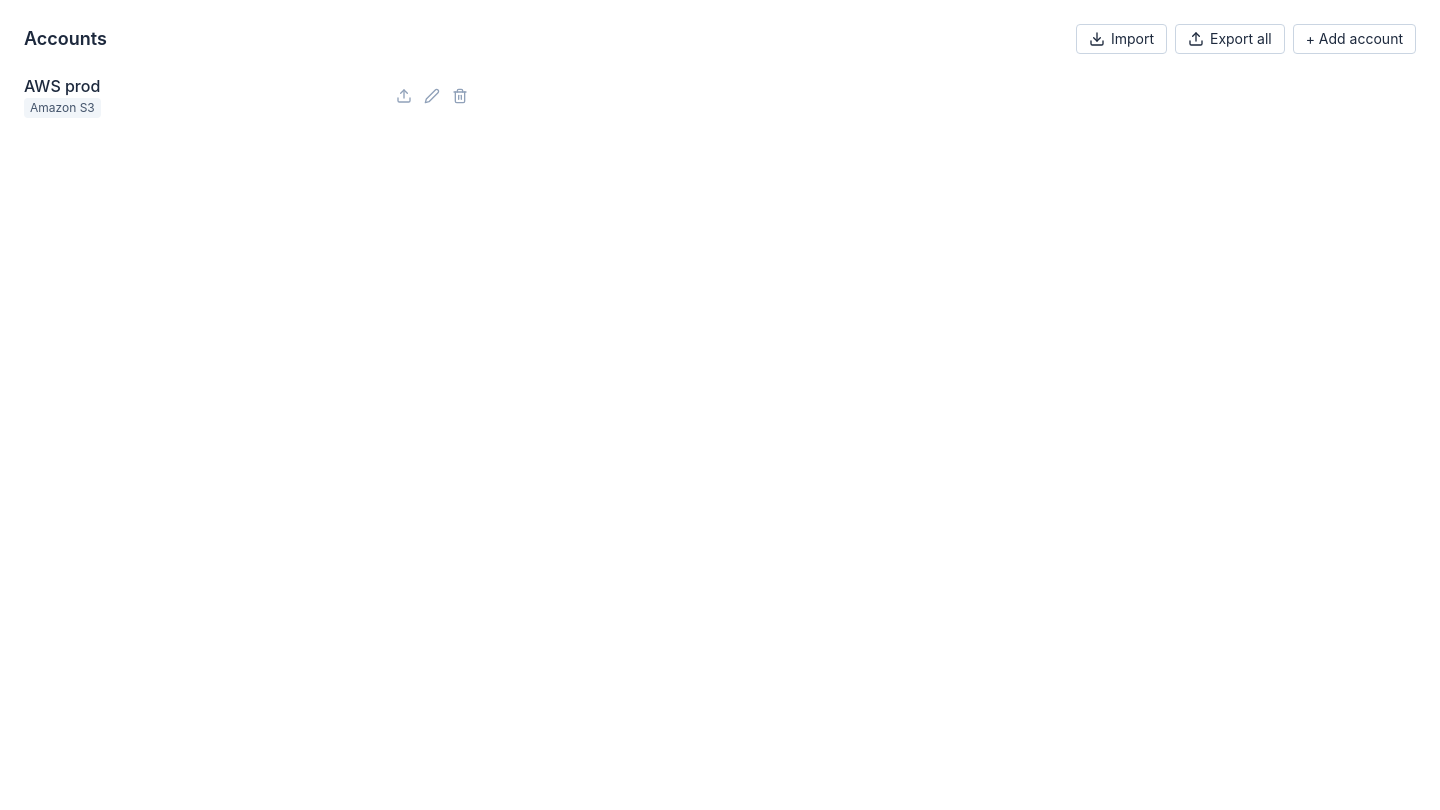
Test case: ConnectionsScreen › opens the export-all dialog from the header
This screenshot has width=1440, height=810.
What coordinates should you click on to do the following:
click the button "Export all"
I would click on:
 (1230, 39)
Its box is [1175,24,1285,54].
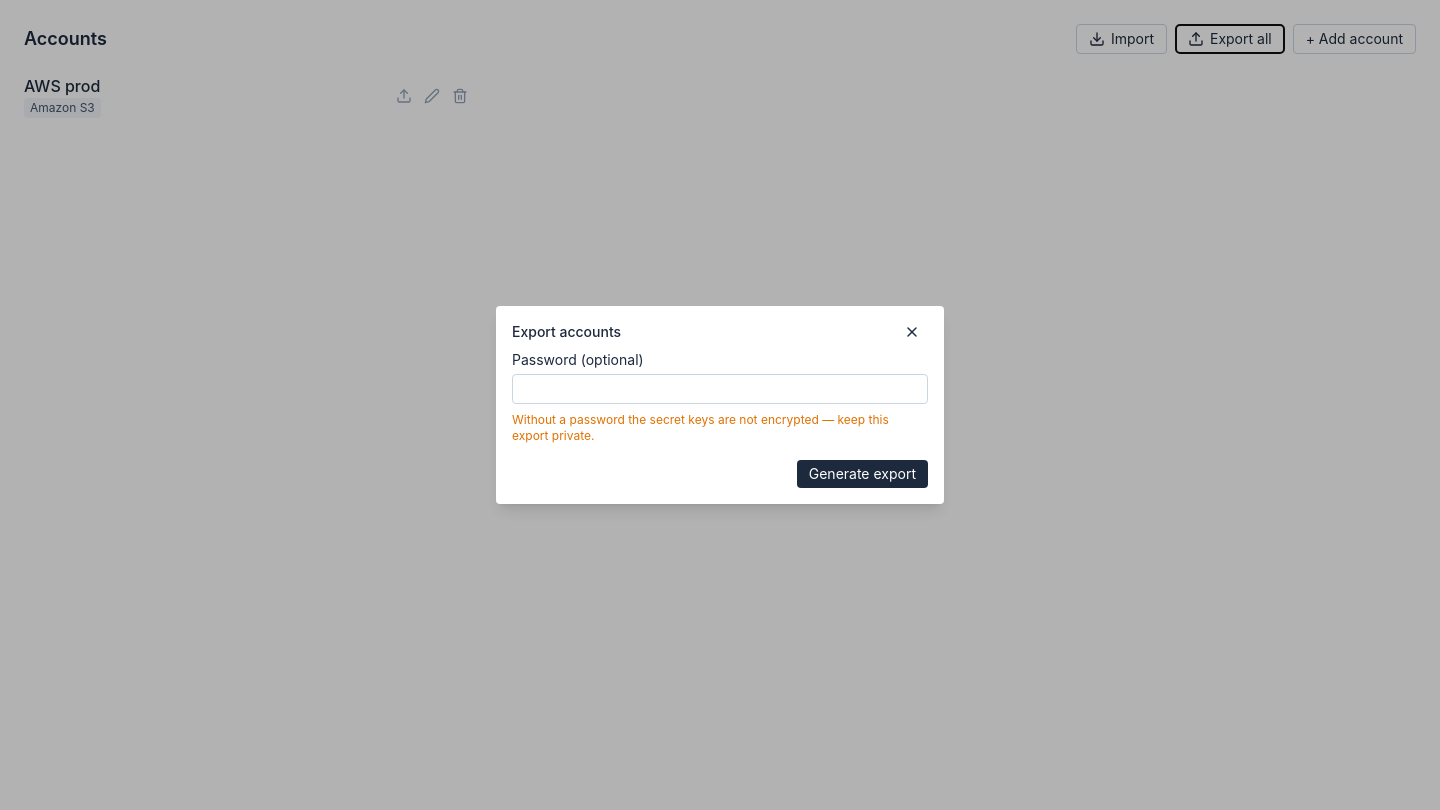
expect the text "Export accounts" is shown: met, box [512,322,621,342]
